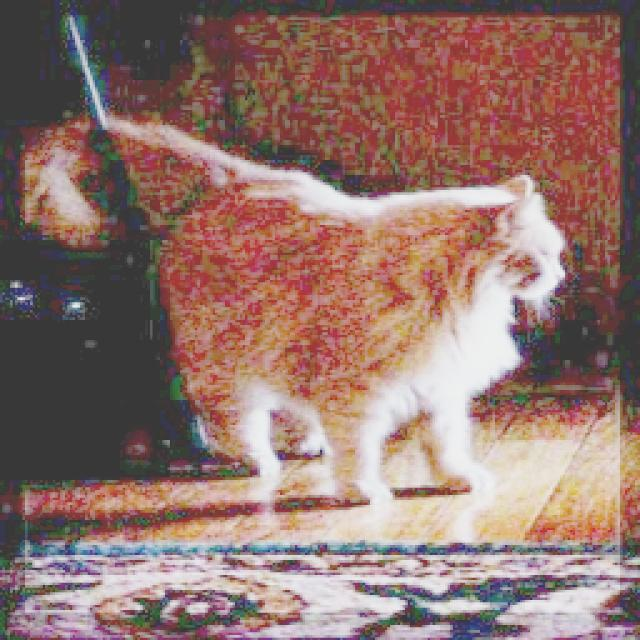cat: (36, 86, 570, 530)
